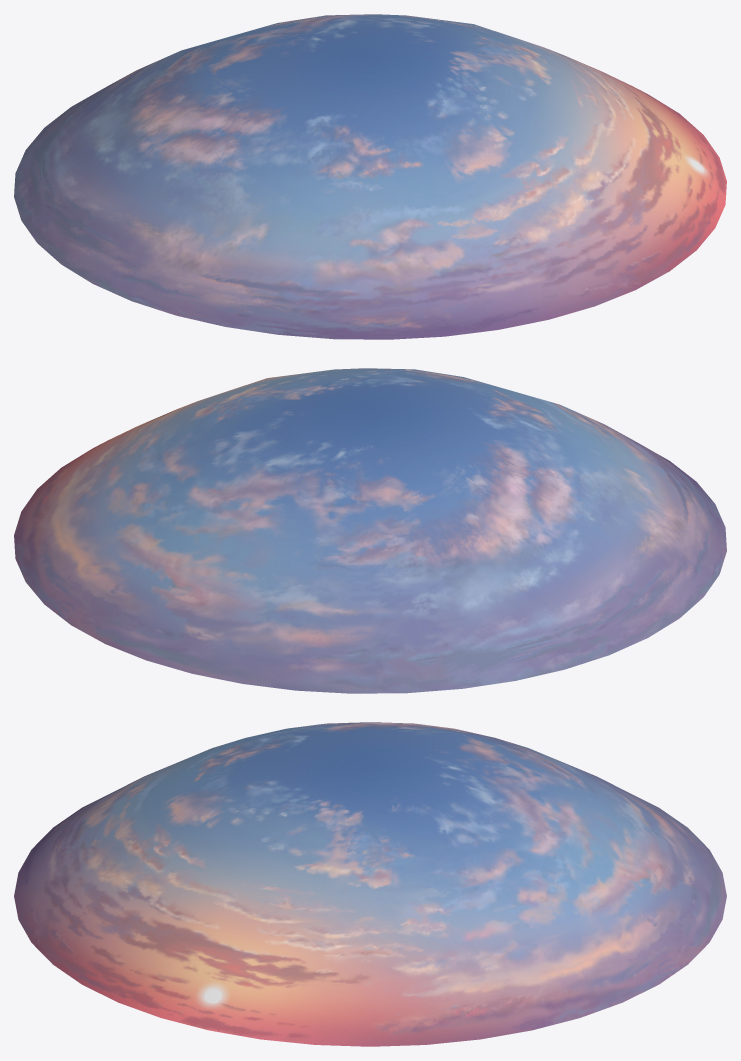
File: linkeltje_skydome_linkeltje_2.obj
The picture shows the model from 3 angles, top to bottom: view 1: azimuth 30°, elevation 25°; view 2: azimuth 150°, elevation 25°; view 3: azimuth 270°, elevation 25°; orthographic projection.
Visible parts, largest first — view 1: Sphere; view 2: Sphere; view 3: Sphere.
Part boxes in pixels (x1,y1,x2,y2): Sphere: (14,14,726,339); Sphere: (14,368,726,693); Sphere: (14,722,726,1046).
Size of the model in its own units: 19.66 by 3.94 by 19.66.
Materials: 1 (1 with a texture image).
